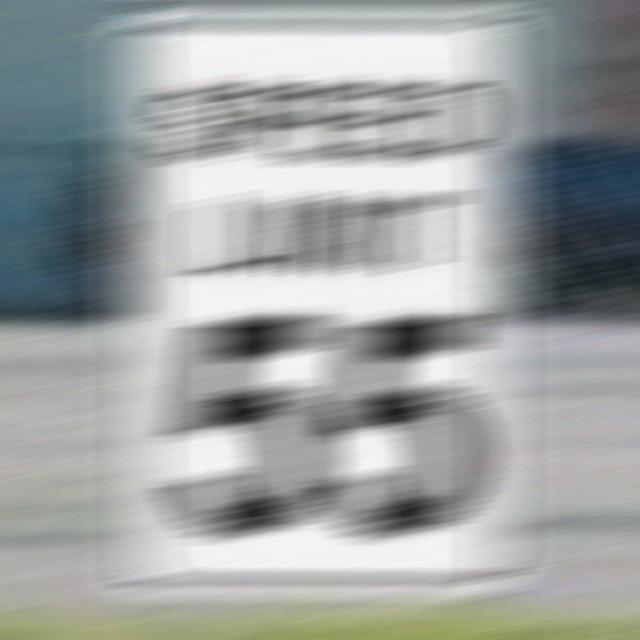speedLimit55: (112, 20, 521, 584)
